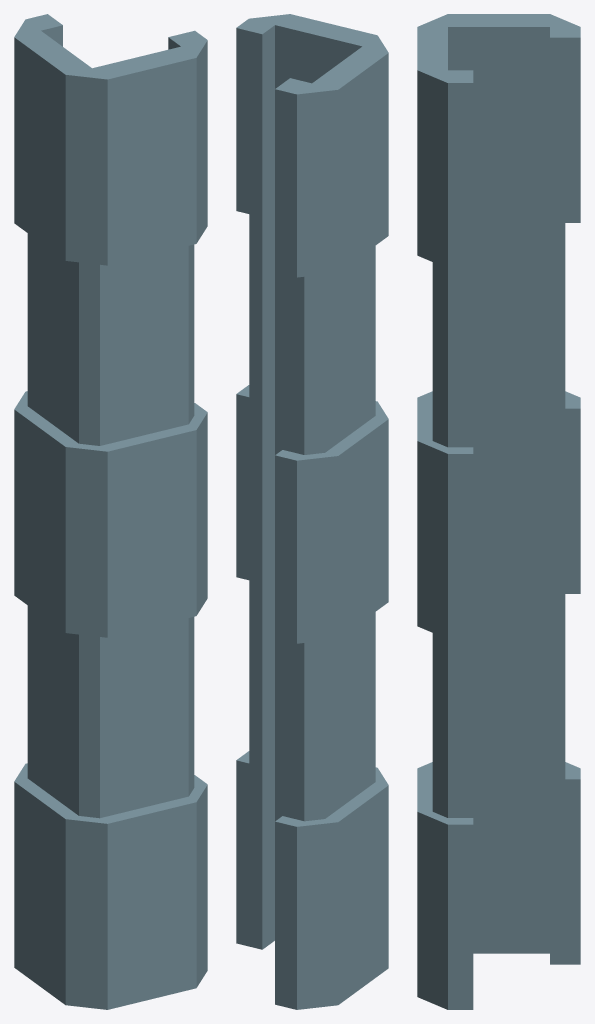
Rendered from wallCornerDetail.obj.
3 renders of one model, left to right at view 1: azimuth 30°, elevation 25°; view 2: azimuth 150°, elevation 25°; view 3: azimuth 270°, elevation 25°, orthographic.
Visible parts, largest first — view 1: wallCornerDetail; view 2: wallCornerDetail; view 3: wallCornerDetail.
Boxes of the visible parts, <box> form: wallCornerDetail: <box>14,14,207,1009</box>; wallCornerDetail: <box>236,14,388,1009</box>; wallCornerDetail: <box>417,14,580,1009</box>.
Bounding box in the file's own units: 0.16 × 1 × 0.16.
